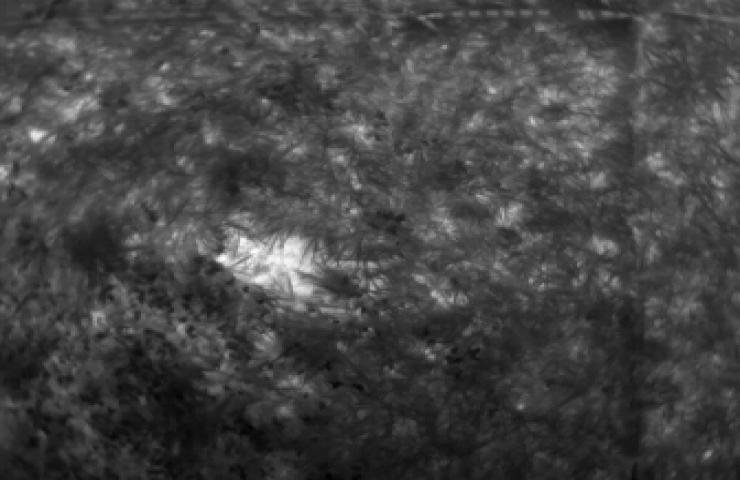landmines: (211, 219, 334, 302)
